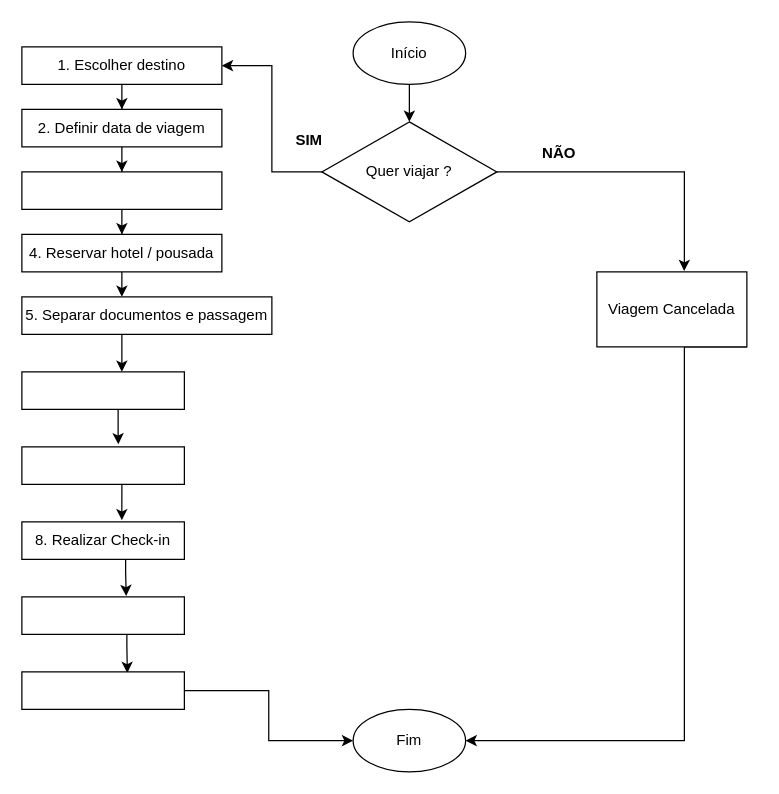
Image size: 779x794. Some labels were removed from this diagram. Each missing label, with the centre of its shape:
10. Chegar ao destino: (x=102, y=690)
3. Comprar passagem: (x=121, y=190)
6. Arrumar malar: (x=102, y=390)
7. Ir ao aeroporto: (x=102, y=465)
9. Realizar Embarque: (x=102, y=615)
